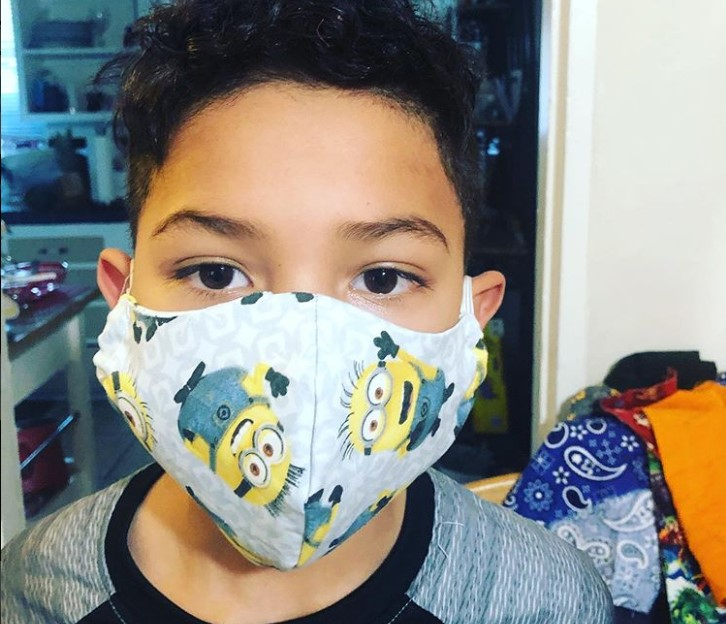face_with_mask: (88, 25, 508, 577)
